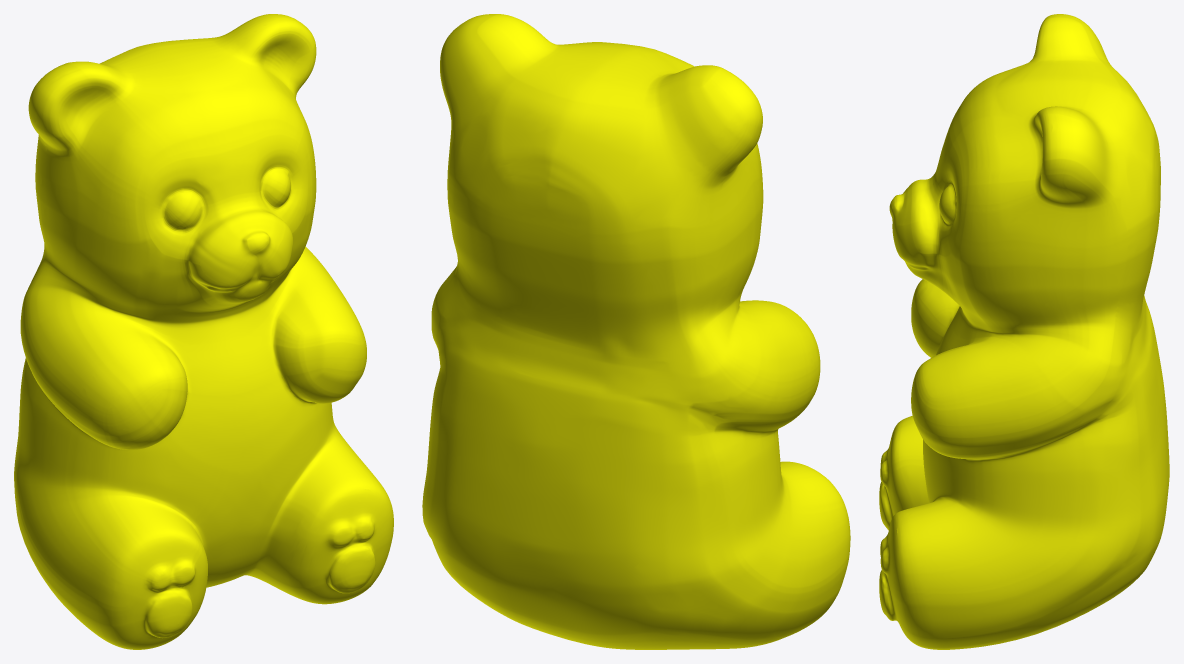
File: yellow.fbx
3 renders of one model, left to right at view 1: azimuth 30°, elevation 25°; view 2: azimuth 150°, elevation 25°; view 3: azimuth 270°, elevation 25°, orthographic. The views are drawn at different scales.
Visible parts, largest first — view 1: bHP7; view 2: bHP7; view 3: bHP7.
Boxes of the visible parts, bbox=[...] form: bHP7: bbox=[14, 14, 393, 649]; bHP7: bbox=[422, 14, 850, 649]; bHP7: bbox=[879, 14, 1169, 649].
Bounding box in the file's own units: 5.54 × 9.18 × 4.54.
